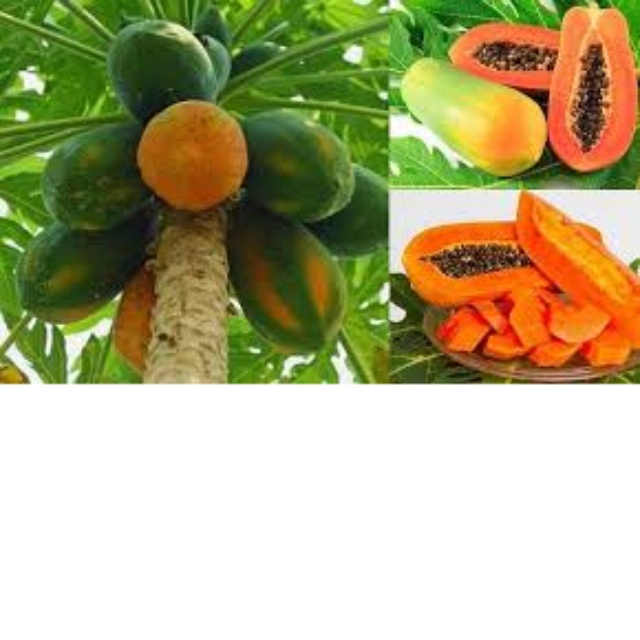du_du: (399, 198, 640, 369), (397, 47, 546, 178), (228, 207, 349, 357), (248, 102, 355, 223), (132, 107, 251, 209), (17, 220, 130, 323), (99, 25, 222, 109), (37, 134, 144, 223)
